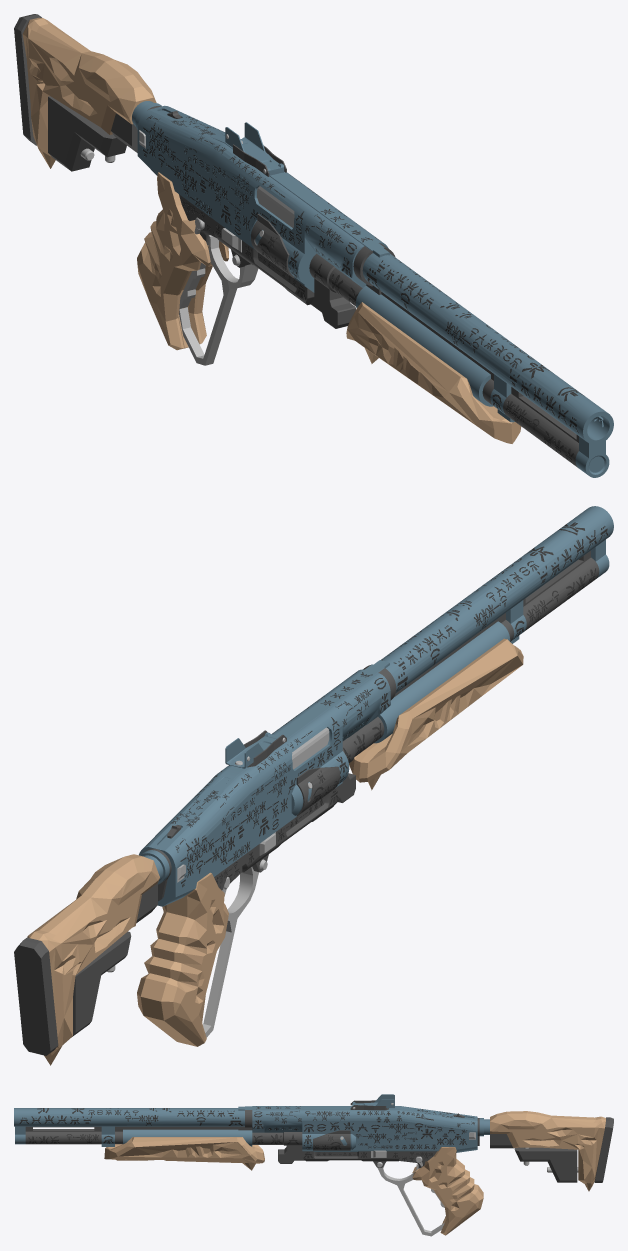
The model's file is mindbenders_ambition.fbx.
3 renders of one model, top to bottom at view 1: azimuth 30°, elevation 25°; view 2: azimuth 150°, elevation 25°; view 3: azimuth 270°, elevation 25°, orthographic. The views are drawn at different scales.
Parts seen in each view (by area): view 1: object 30, object 26, object 15, object 5, object 18, Plane.004_0, object 38, object 13, object 31, object 36, object 39, object 22 (+6 smaller); view 2: object 30, object 15, object 26, object 18, object 5, Plane.004_0, object 38, object 31, object 36, object 7, object 13, object 22 (+4 smaller); view 3: object 30, object 18, object 15, object 26, object 5, Plane.004_0, object 38, object 36, object 31, object 7, object 22, object 13 (+6 smaller).
Part boxes in pixels (box(x1,y1,x2,y2)): object 30: box(137, 172, 521, 443); object 26: box(362, 253, 608, 441); object 15: box(22, 17, 156, 168); object 5: box(14, 14, 578, 442); object 18: box(137, 105, 329, 292); Plane.004_0: box(143, 115, 583, 464); object 38: box(137, 106, 336, 228); object 13: box(179, 235, 258, 365); object 31: box(356, 286, 490, 403); object 36: box(179, 194, 314, 305); object 39: box(225, 122, 609, 477); object 22: box(304, 207, 389, 287); object 30: box(137, 638, 523, 1046); object 15: box(27, 854, 159, 1065); object 26: box(381, 506, 613, 692); object 18: box(139, 704, 342, 906); object 5: box(14, 550, 590, 1055); Plane.004_0: box(146, 522, 607, 887); object 38: box(143, 704, 342, 867); object 31: box(380, 621, 510, 739); object 36: box(214, 785, 340, 890); object 7: box(523, 557, 599, 631); object 13: box(202, 859, 267, 1037); object 22: box(318, 660, 390, 740); object 30: box(104, 1137, 483, 1235); object 18: box(302, 1106, 477, 1152); object 15: box(490, 1111, 605, 1191); object 26: box(14, 1108, 244, 1126); object 5: box(25, 1100, 613, 1182); Plane.004_0: box(19, 1106, 474, 1160); object 38: box(302, 1106, 477, 1131); object 36: box(302, 1151, 436, 1168); object 31: box(123, 1129, 252, 1146); object 7: box(25, 1131, 101, 1144); object 22: box(238, 1106, 302, 1132); object 13: box(376, 1162, 444, 1236).
Size of the model in its own units: 0.0816 by 0.2994 by 1.18.
